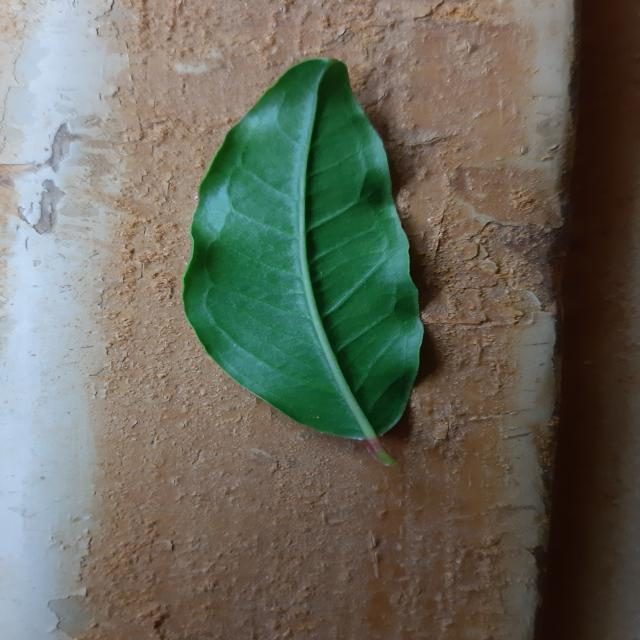pomgranate: (182, 59, 422, 465)
